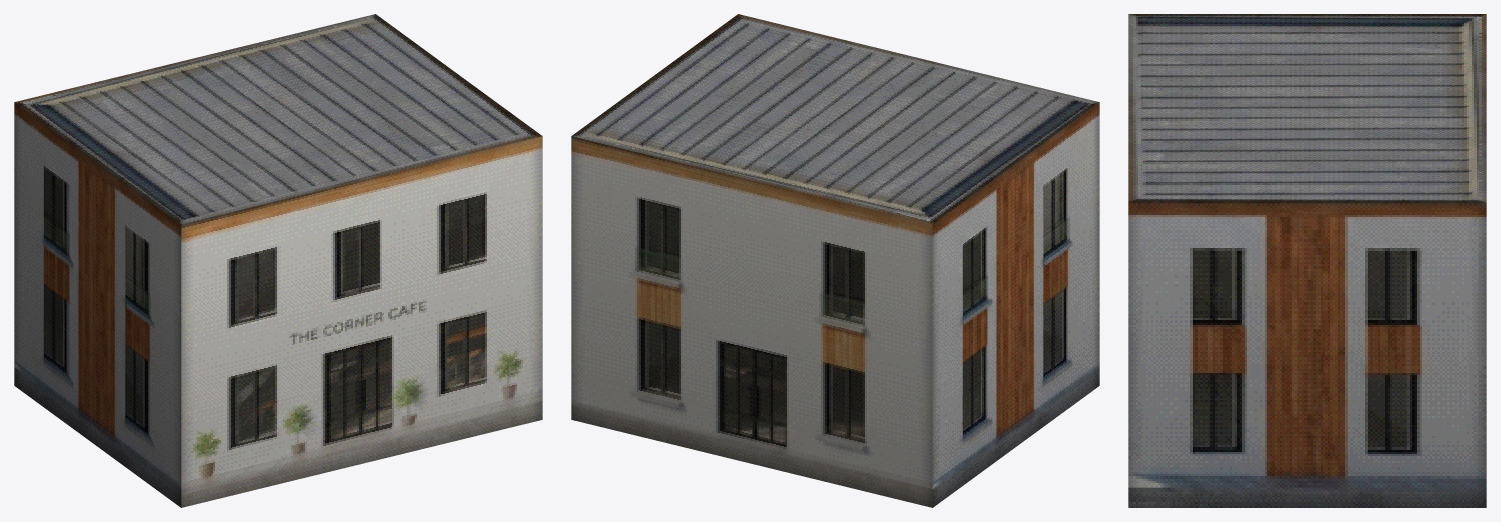
Rendered from cafe.glb.
3 views of the same model, side by side, from view 1: azimuth 30°, elevation 25°; view 2: azimuth 150°, elevation 25°; view 3: azimuth 270°, elevation 25° (orthographic). The views are drawn at different scales.
Visible parts, largest first — view 1: Modern Two-Storey Corner; view 2: Modern Two-Storey Corner; view 3: Modern Two-Storey Corner.
Boxes of the visible parts, x1=… form: Modern Two-Storey Corner: x1=14, y1=14, x2=542, y2=507; Modern Two-Storey Corner: x1=571, y1=14, x2=1099, y2=507; Modern Two-Storey Corner: x1=1128, y1=14, x2=1486, y2=507.
Bounding box in the file's own units: 10 × 7.5 × 8.
1 material, 1 textured.
